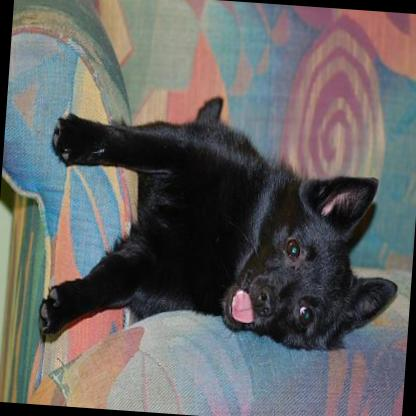schipperke: (35, 84, 410, 364)
